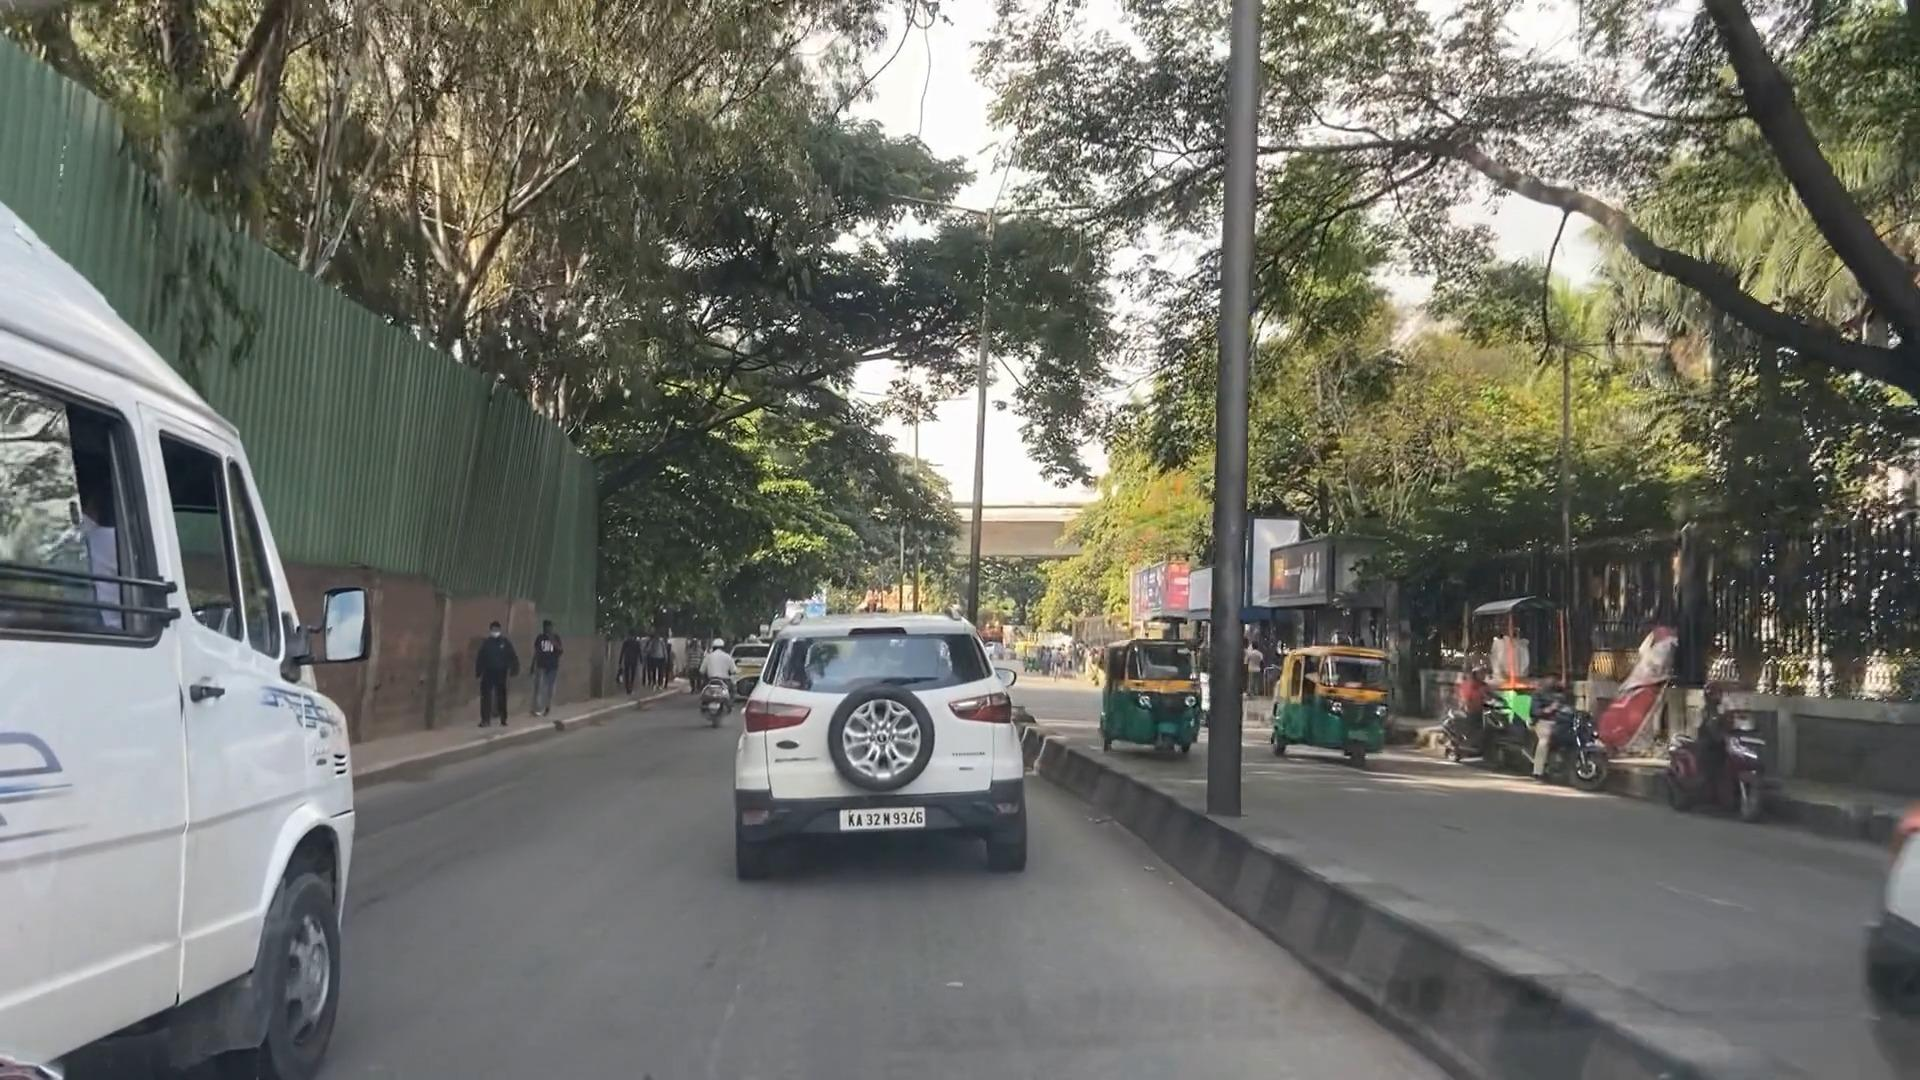HMV: (3, 225, 397, 1080)
LMV: (725, 613, 1051, 885)
